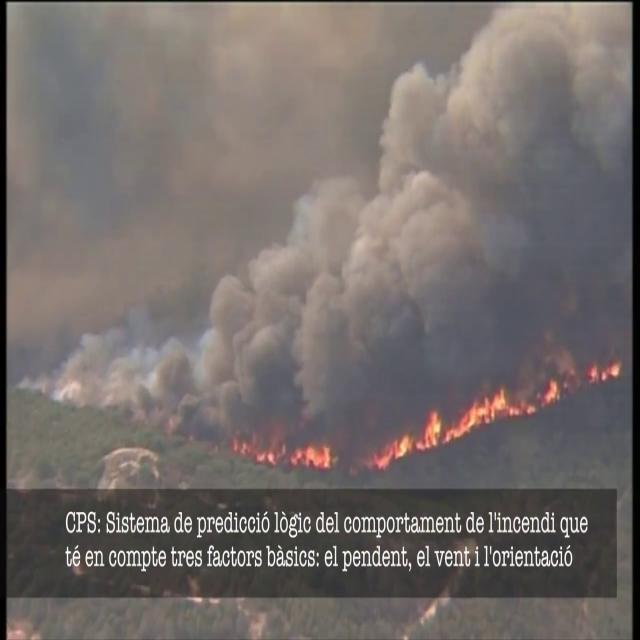Fire: (374, 381, 544, 458), (230, 426, 340, 474)
Smoke: (29, 4, 628, 472)
